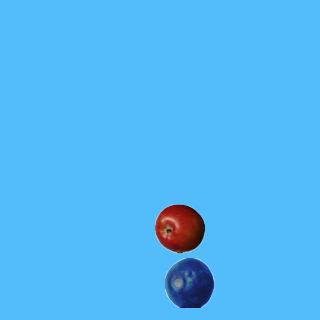Apple Braeburn: (154, 203, 204, 253)
Huckleberry: (164, 257, 214, 307)
